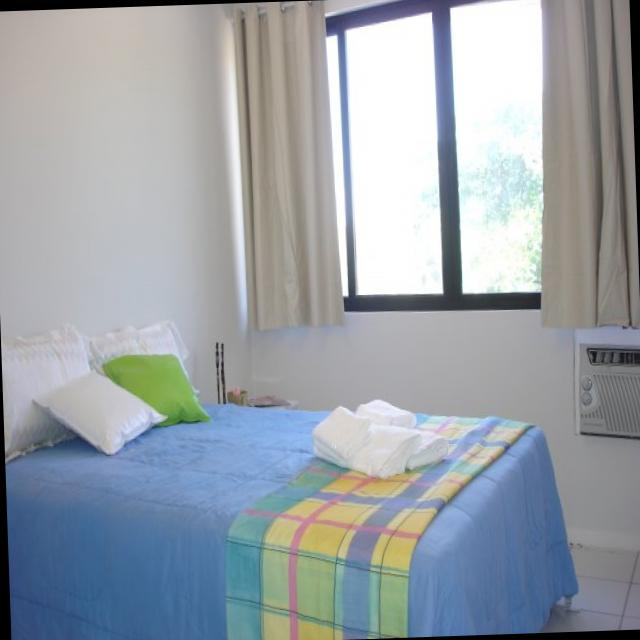2001: (328, 0, 543, 311)
Air Conditioner: (577, 344, 640, 440)
Curtain: (542, 0, 636, 326)
bed -occluded-: (10, 392, 588, 640)
blanket: (229, 404, 527, 631)
curtain crop: (233, 1, 346, 329)
pillow occluded: (35, 368, 169, 455), (6, 333, 94, 450), (105, 353, 211, 423), (92, 317, 189, 361)
